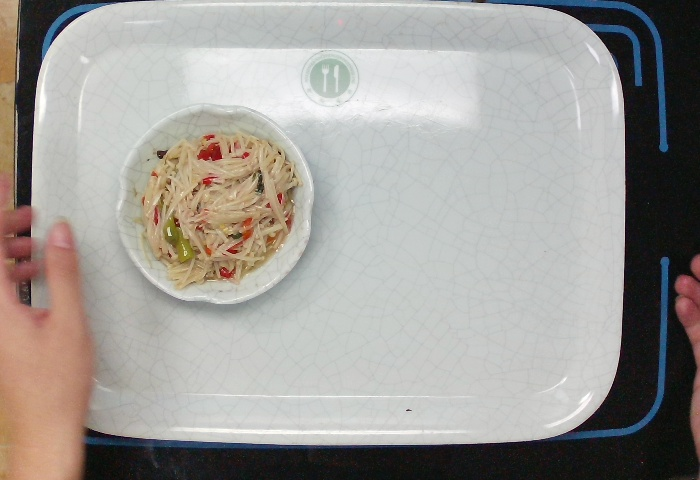JYsf-Ao_Yuan_Wan: (111, 99, 316, 306)
